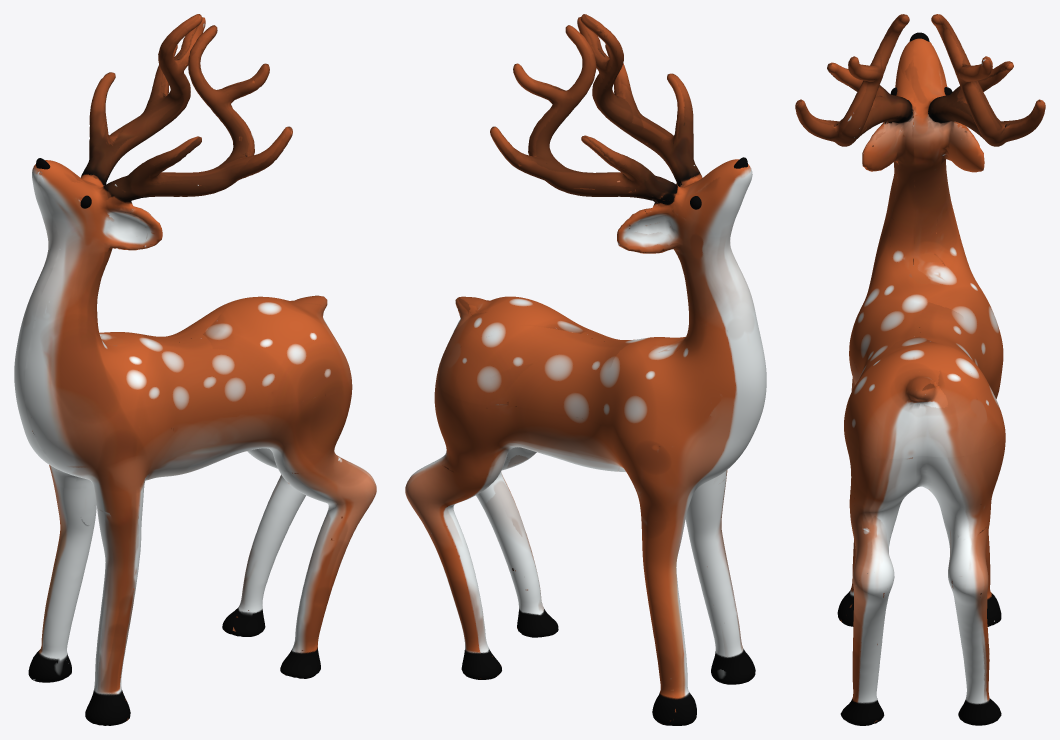
3 views of the same model, side by side, from view 1: azimuth 30°, elevation 25°; view 2: azimuth 150°, elevation 25°; view 3: azimuth 270°, elevation 25° (orthographic). The views are drawn at different scales.
Visible parts, largest first — view 1: Sphere.045; view 2: Sphere.045; view 3: Sphere.045.
Part boxes in pixels (bbox=[...]): Sphere.045: bbox=[14, 14, 376, 725]; Sphere.045: bbox=[405, 14, 766, 725]; Sphere.045: bbox=[795, 14, 1045, 725].
Bounding box in the file's own units: 2.79 × 5.19 × 1.76.
2 materials, 1 textured.
